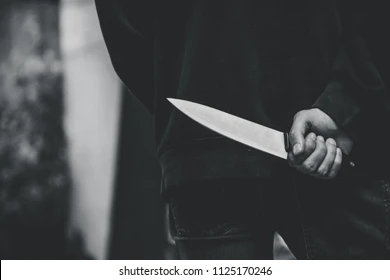knife: (155, 84, 374, 192)
